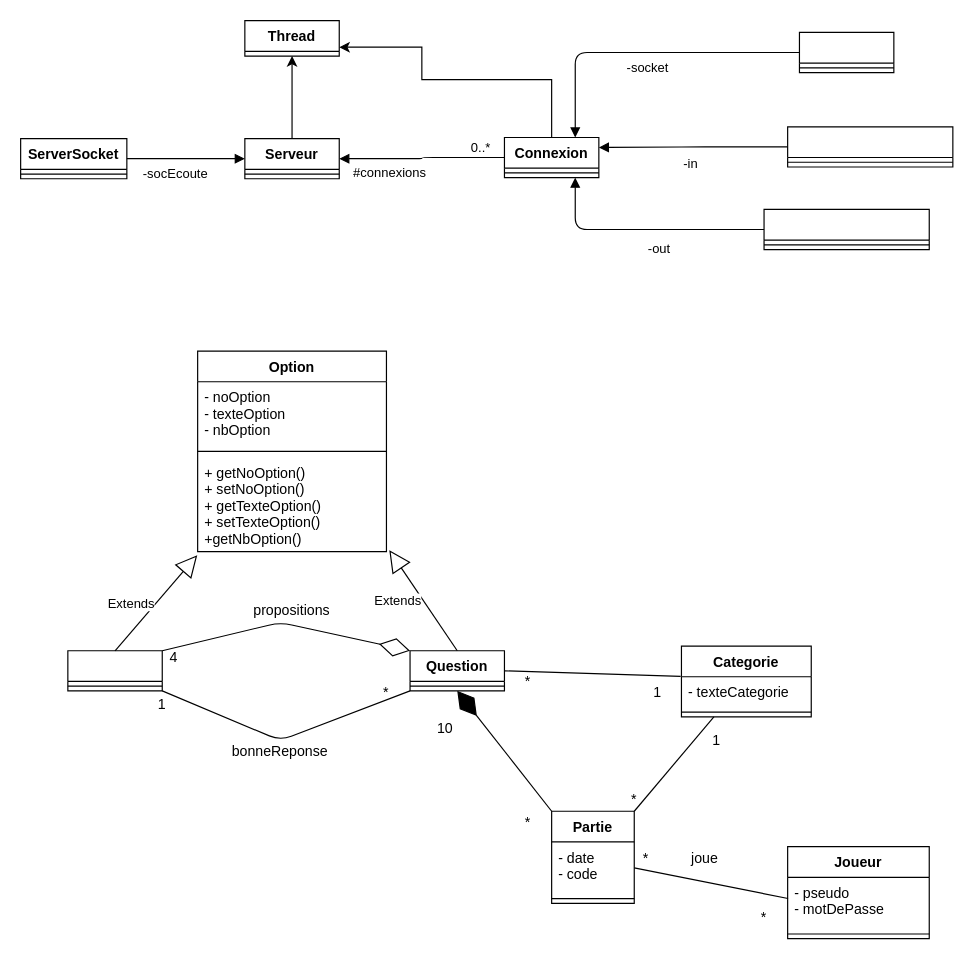
Some shapes in this 973 by 959 pixel diagram are drawn without their labels. The shapes that lost their labels are listed below. From the top down, each one's centre as x and y in pixels, then its label:
At pixel 846 52: "Socket".
At pixel 869 146: "ObjectInputStream".
At pixel 846 229: "ObjectOutputStream".
At pixel 114 670: "Reponse".
